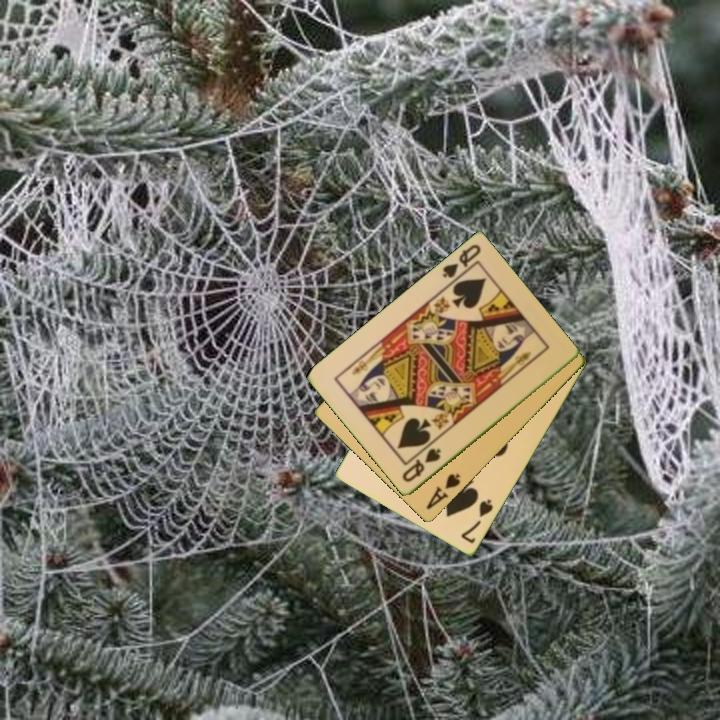7s: (457, 496, 496, 547)
As: (422, 470, 463, 513)
Qs: (398, 445, 444, 486), (439, 241, 484, 281)
